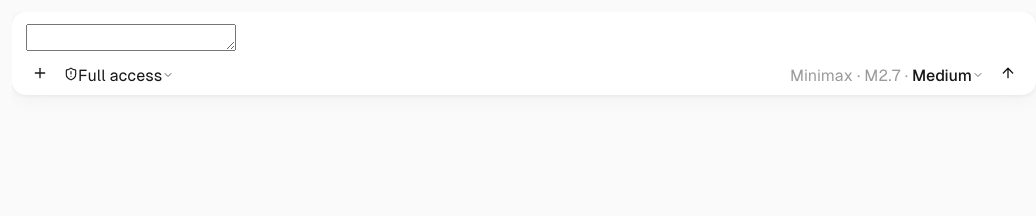
Test: Composer › opens the slash menu when '/' is typed mid-sentence
The width and height of the screenshot is (1036, 216).
In the text box named "message": (131, 38) [26,24,236,51], type "hello /mod"
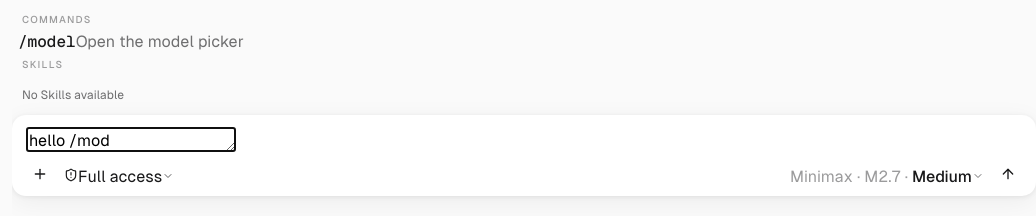
Expected: the text "/model" is shown, [18,31,76,52]
